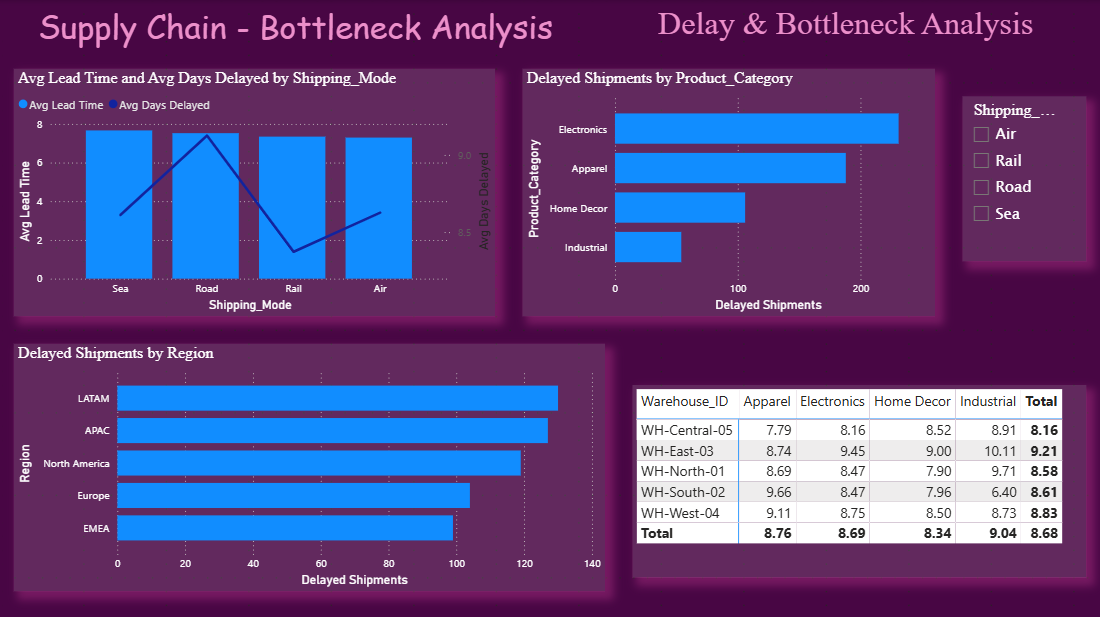

What the dashboard file says about the page in this screenshot:
{"tool":"powerbi","page":{"name":"Delay & Bottleneck Analysis","canvas":[1280,720],"ordinal":1},"visuals":[{"type":"textbox","box":[0,0,688,64],"z":0},{"type":"textbox","box":[688,0,592,64],"z":1000},{"type":"clusteredBarChart","fields":{"Category":["Shipment_Records.Region"],"Y":["Shipment_Records.Delayed Shipments"]},"box":[16,400,688,288],"z":2000},{"type":"barChart","fields":{"Category":["Shipment_Records.Product_Category"],"Y":["Shipment_Records.Delayed Shipments"]},"box":[608,80,480,288],"z":3000},{"type":"lineClusteredColumnComboChart","fields":{"Category":["Shipment_Records.Shipping_Mode"],"Y":["Shipment_Records.Avg Lead Time"],"Y2":["Shipment_Records.Avg Days Delayed"]},"box":[16,80,560,288],"z":4000},{"type":"pivotTable","fields":{"Rows":["Shipment_Records.Warehouse_ID"],"Columns":["Shipment_Records.Product_Category"],"Values":["Shipment_Records.Avg Days Delayed"]},"box":[736,448,528,224],"z":5000},{"type":"slicer","fields":{"Values":["Shipment_Records.Shipping_Mode"]},"box":[1120,112,144,192],"z":6000}]}

Visuals, with their boxes in screenshot pixels (x1, y1, x2, y2), scaled from the page's 1280x720 canvas onto the 1100x617 screenshot:
textbox: 0,0,591,55
textbox: 591,0,1099,55
clusteredBarChart - Shipment_Records.Region x Shipment_Records.Delayed Shipments: 14,343,605,590
barChart - Shipment_Records.Product_Category x Shipment_Records.Delayed Shipments: 522,69,935,315
lineClusteredColumnComboChart - Shipment_Records.Shipping_Mode x Shipment_Records.Avg Lead Time: 14,69,495,315
pivotTable - Shipment_Records.Warehouse_ID x Shipment_Records.Product_Category: 632,384,1086,576
slicer - Shipment_Records.Shipping_Mode: 962,96,1086,261
